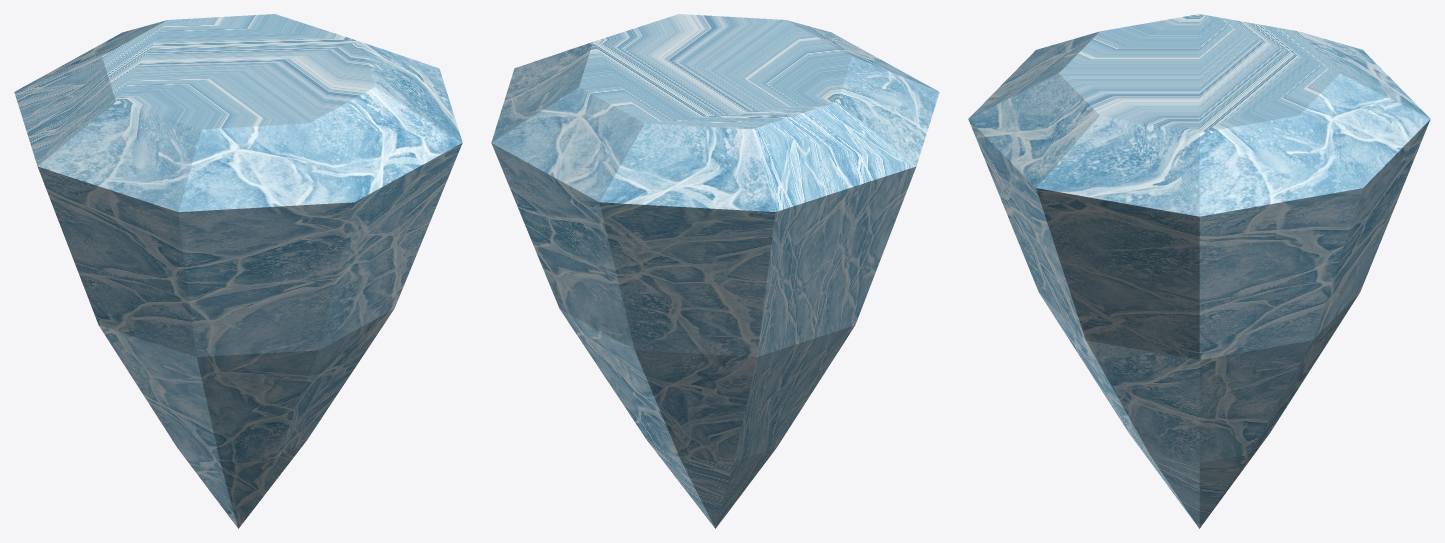
The model's file is IceJellyfishTip.obj.
3 views of the same model, side by side, from view 1: azimuth 30°, elevation 25°; view 2: azimuth 150°, elevation 25°; view 3: azimuth 270°, elevation 25° (orthographic).
Parts seen in each view (by area): view 1: IceJellyfishTip; view 2: IceJellyfishTip; view 3: IceJellyfishTip.
Boxes of the visible parts, x1,y1,x2,y2 form: IceJellyfishTip: [14, 14, 462, 528]; IceJellyfishTip: [491, 14, 939, 528]; IceJellyfishTip: [968, 14, 1430, 528].
Bounding box in the file's own units: 0.92 × 1 × 0.92.
1 material, 1 textured.
